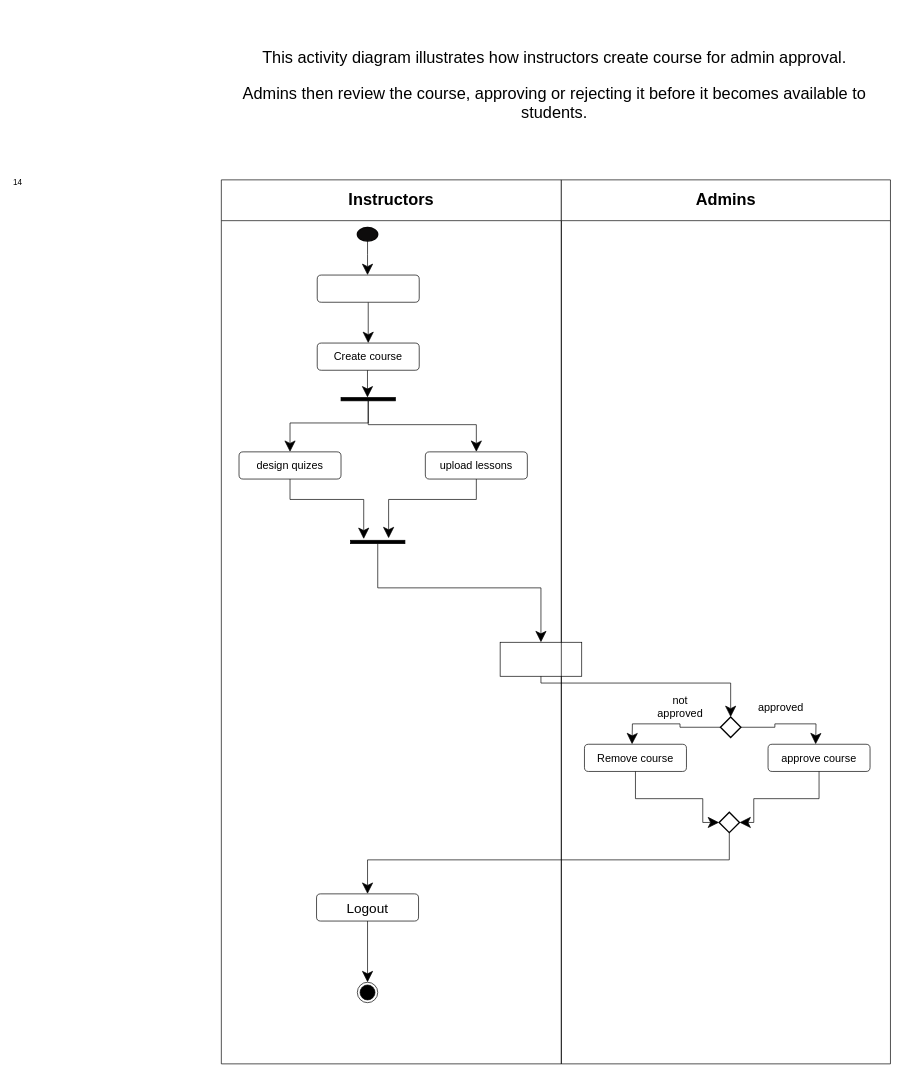
Some shapes in this 902 by 1076 pixel diagram are drawn without their labels. The shapes that lost their labels are listed below. From the top down, each one's centre as x and y in pixels, then its label:
pixel 368 288: Login
pixel 540 659: course
